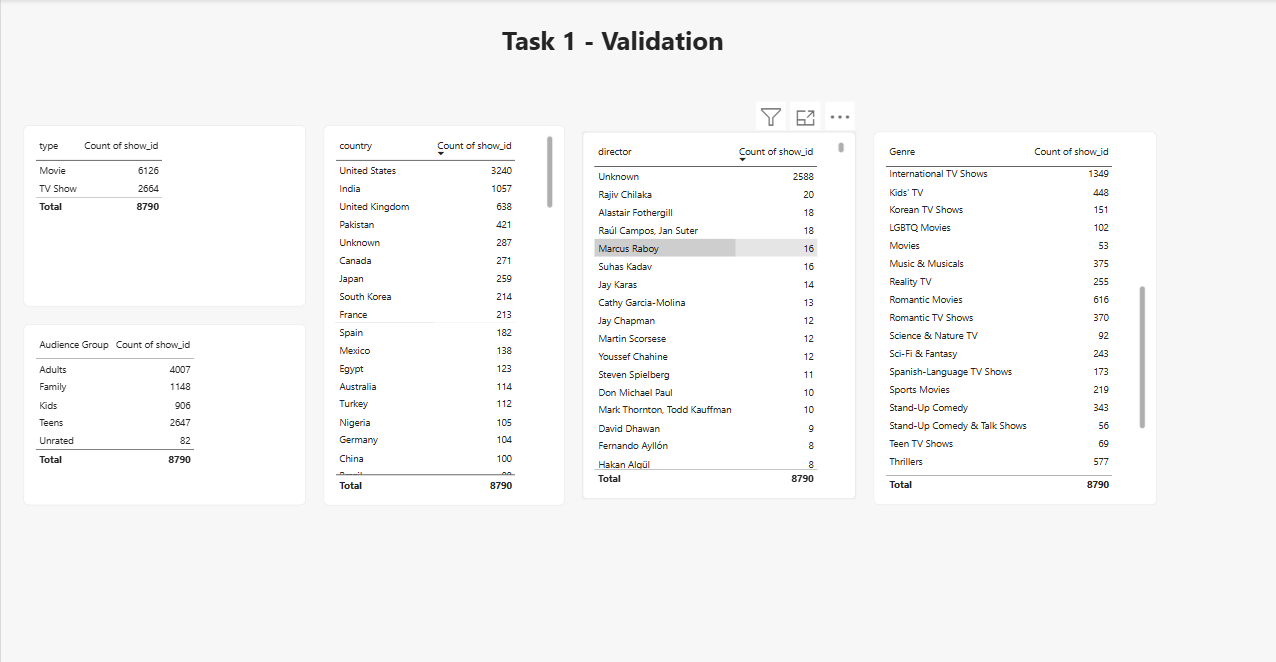

Layout of this report page (visuals, bound fields, positions):
{"tool":"powerbi","page":{"name":"Task 1 - Validation","canvas":[1920,1080],"ordinal":1},"visuals":[{"type":"tableEx","fields":{"Values":["Netflix.type","Netflix.show_id"]},"box":[32.6,182.8,409,262.4],"z":1},{"type":"tableEx","fields":{"Values":["Netflix.country","Netflix.show_id"]},"box":[466.9,182.8,349.3,550.1],"z":2},{"type":"tableEx","fields":{"Values":["Netflix.director","Netflix.show_id"]},"box":[841.5,191.8,396.3,532],"z":3},{"type":"tableEx","fields":{"Values":["Genre.Genre","Netflix.show_id"]},"box":[1263.1,191.8,410.8,541.1],"z":4},{"type":"tableEx","fields":{"Values":["Netflix.Audience Group","Netflix.show_id"]},"box":[32.6,470.5,409,262.4],"z":5},{"type":"textbox","box":[533.8,34.4,704,99.5],"z":6}]}

Visuals, with their boxes on the page's 1920x1080 design canvas (x1, y1, x2, y2). These are canvas units, not pixel positions in the 1276x662 screenshot, which may show the page scaled, cropped or inside an application window:
tableEx - Netflix.type x Netflix.show_id: <region>33, 183, 442, 445</region>
tableEx - Netflix.country x Netflix.show_id: <region>467, 183, 816, 733</region>
tableEx - Netflix.director x Netflix.show_id: <region>842, 192, 1238, 724</region>
tableEx - Genre.Genre x Netflix.show_id: <region>1263, 192, 1674, 733</region>
tableEx - Netflix.Audience Group x Netflix.show_id: <region>33, 470, 442, 733</region>
textbox: <region>534, 34, 1238, 134</region>
